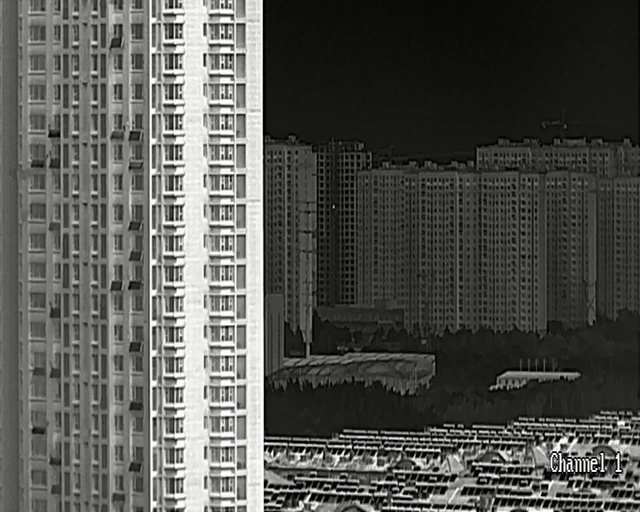uav: (13, 165, 37, 181)
